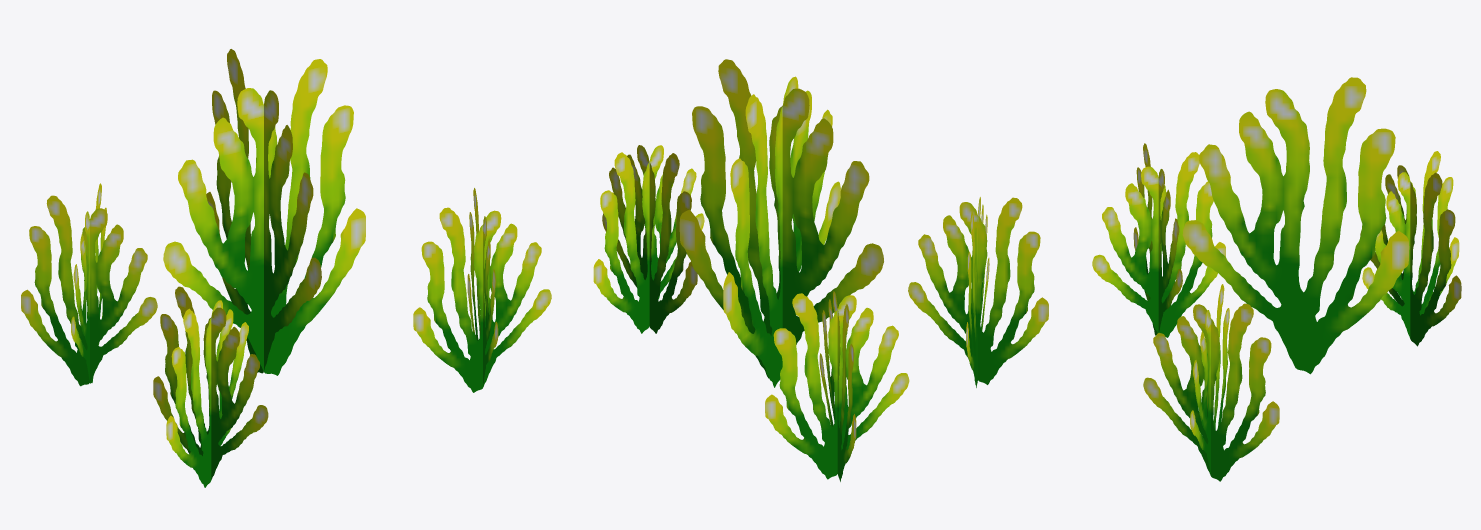
Rendered from herb03.obj.
3 views of the same model, side by side, from view 1: azimuth 30°, elevation 25°; view 2: azimuth 150°, elevation 25°; view 3: azimuth 270°, elevation 25° (orthographic). The views are drawn at different scales.
Parts seen in each view (by area): view 1: Box02, Duplicate12, Duplicate11, Duplicate13, Duplicate10; view 2: Box02, Duplicate11, Duplicate12, Duplicate13, Duplicate10; view 3: Duplicate10, Duplicate12, Duplicate13, Duplicate11.
Part boxes in pixels (x1,y1,x2,y2): Box02: (163, 59, 365, 375); Duplicate12: (413, 188, 551, 392); Duplicate11: (21, 183, 157, 386); Duplicate13: (153, 286, 268, 487); Duplicate10: (206, 49, 321, 373); Box02: (679, 59, 883, 378); Duplicate11: (765, 291, 909, 481); Duplicate12: (593, 145, 704, 333); Duplicate13: (908, 197, 1048, 387); Duplicate10: (723, 76, 840, 387); Duplicate10: (1182, 77, 1409, 374); Duplicate12: (1143, 284, 1279, 481); Duplicate13: (1092, 143, 1225, 337); Duplicate11: (1360, 151, 1461, 346).
Bounding box in the file's own units: 24.28 × 18.87 × 19.47.
